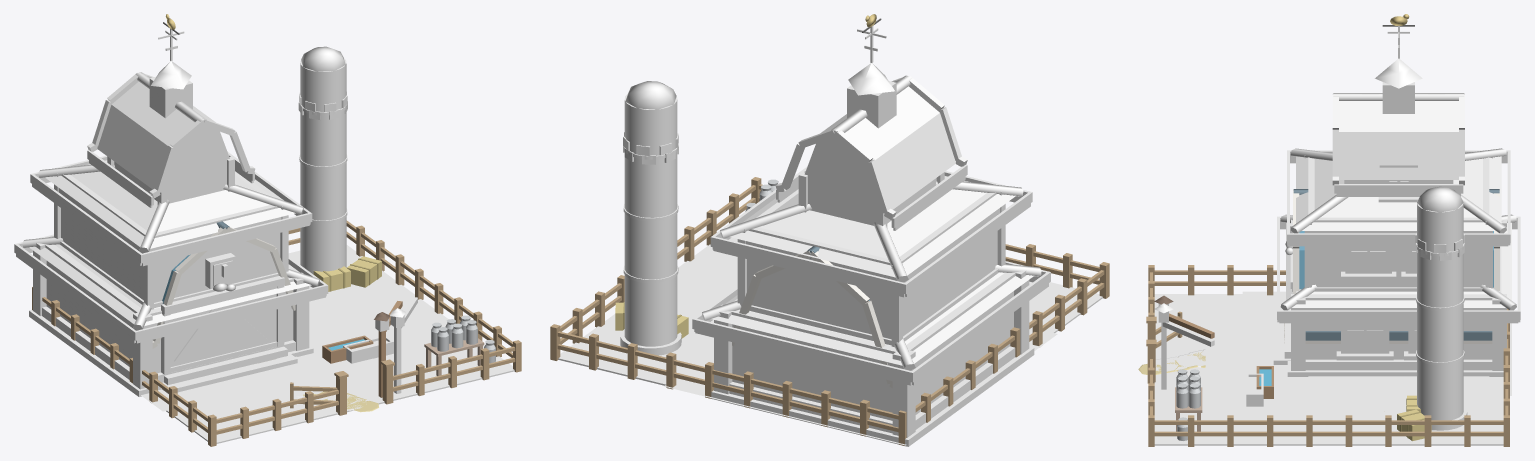
The model's file is cow_shed_1.glb.
3 renders of one model, left to right at view 1: azimuth 30°, elevation 25°; view 2: azimuth 150°, elevation 25°; view 3: azimuth 270°, elevation 25°, orthographic. The views are drawn at different scales.
Parts seen in each view (by area): view 1: when_plan_true, body6, cow_shed_1, body5; view 2: when_plan_true, body6, cow_shed_1; view 3: when_plan_true, body6, cow_shed_1, body5.
Part boxes in pixels (left/top/right/bottom): when_plan_true: left=14, top=14, right=417, bottom=420; body6: left=32, top=220, right=521, bottom=446; cow_shed_1: left=141, top=312, right=347, bottom=411; body5: left=460, top=315, right=495, bottom=363; when_plan_true: left=620, top=14, right=1057, bottom=446; body6: left=550, top=177, right=1109, bottom=445; cow_shed_1: left=676, top=336, right=1051, bottom=445; when_plan_true: left=1154, top=14, right=1520, bottom=430; body6: left=1138, top=189, right=1509, bottom=446; cow_shed_1: left=1216, top=291, right=1511, bottom=403; body5: left=1176, top=383, right=1200, bottom=440.
Size of the model in its own units: 2.75 by 2.6 by 2.8.
